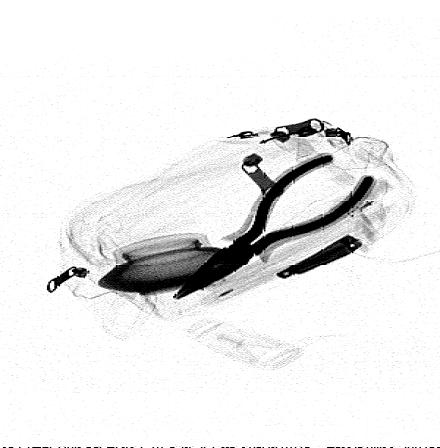Pliers: (174, 153, 378, 300)
